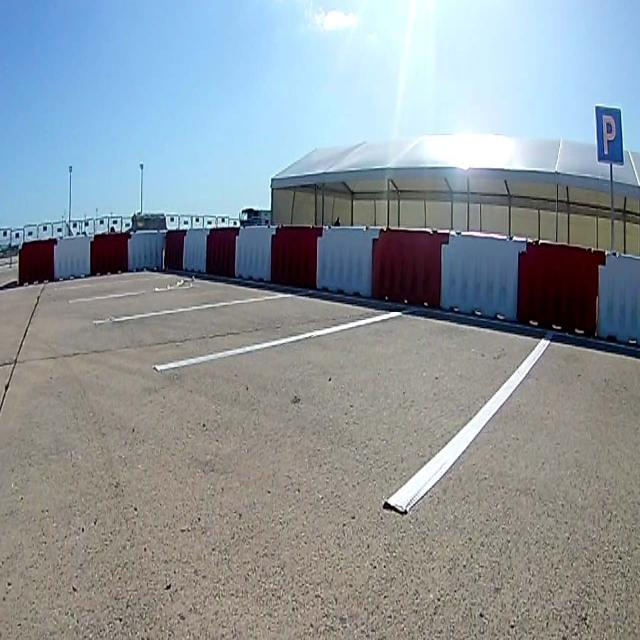park: (594, 106, 624, 165)
